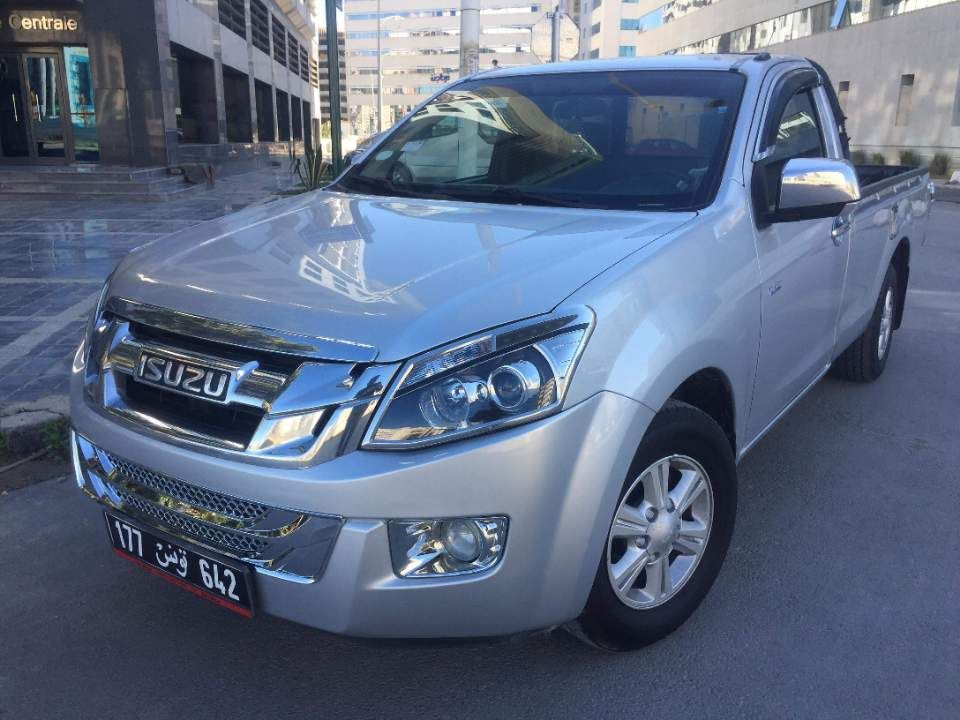LP: (101, 510, 251, 613)
